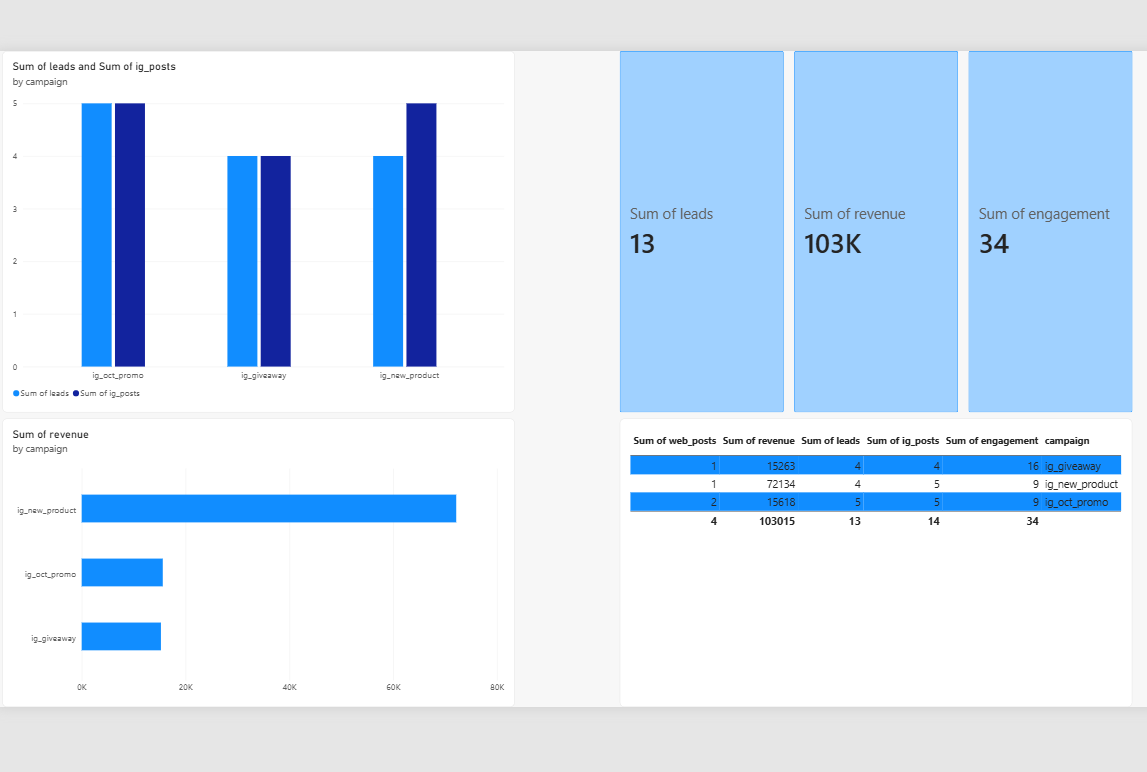

This screenshot's page, from the dashboard's own definition file:
{"tool":"powerbi","page":{"name":"funnel","canvas":[1920,1080],"ordinal":4},"visuals":[{"type":"clusteredColumnChart","fields":{"Category":["funnel.campaign"],"Y":["Sum(funnel.leads)","Sum(funnel.ig_posts)"]},"box":[10.3,0,843.9,594.9],"z":0},{"type":"clusteredBarChart","fields":{"Category":["funnel.campaign"],"Y":["Sum(funnel.revenue)"]},"box":[10,605,844,475],"z":1},{"type":"cardVisual","fields":{"Data":["Sum(funnel.leads)","Sum(funnel.revenue)","Sum(funnel.engagement)"]},"box":[1027.1,0,844,595],"z":2},{"type":"tableEx","fields":{"Values":["Sum(funnel.web_posts)","Sum(funnel.revenue)","Sum(funnel.leads)","Sum(funnel.ig_posts)","Sum(funnel.engagement)","funnel.campaign"]},"box":[1027.1,605.1,844,475],"z":3}]}

Visuals, with their boxes on the page's 1920x1080 design canvas (x1, y1, x2, y2). These are canvas units, not pixel positions in the 1147x772 screenshot, which may show the page scaled, cropped or inside an application window:
clusteredColumnChart - funnel.campaign x Sum(funnel.leads): 10, 0, 854, 595
clusteredBarChart - funnel.campaign x Sum(funnel.revenue): 10, 605, 854, 1080
cardVisual - Sum(funnel.leads) x Sum(funnel.revenue): 1027, 0, 1871, 595
tableEx - Sum(funnel.web_posts) x Sum(funnel.revenue): 1027, 605, 1871, 1080
